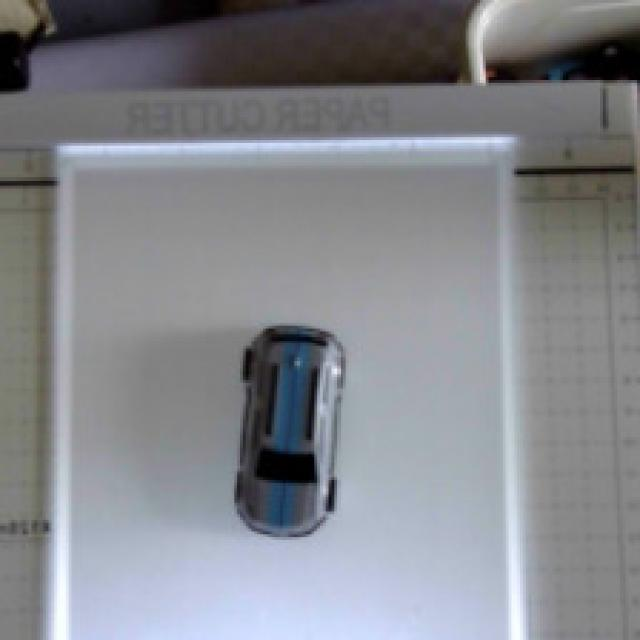Grey Car: (216, 276, 404, 549)
